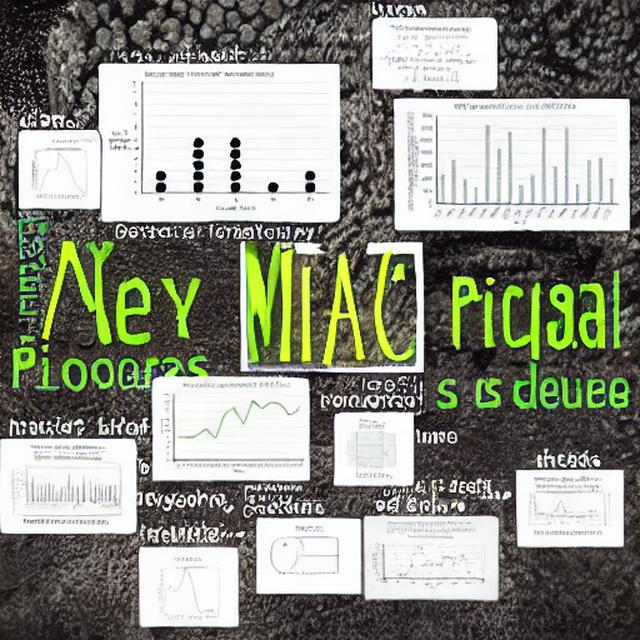Graph: (102, 67, 333, 218), (405, 100, 621, 228), (155, 381, 306, 475), (367, 518, 489, 591), (146, 561, 235, 622), (23, 144, 99, 201), (18, 464, 89, 514), (528, 491, 592, 527)
